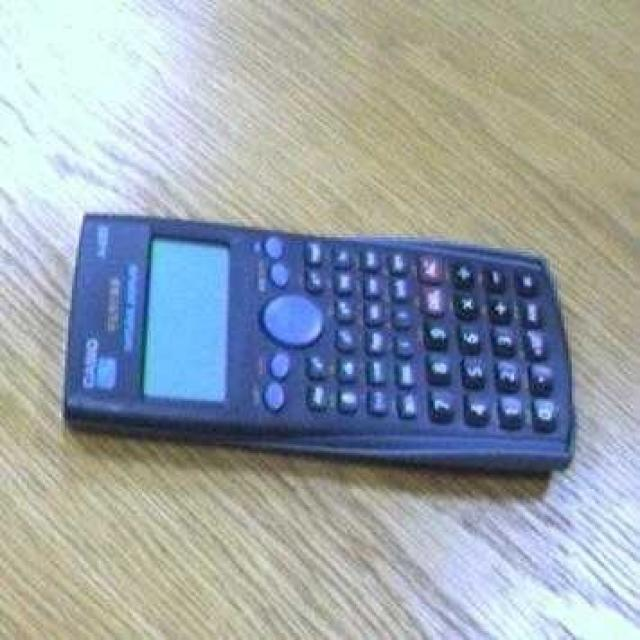Calculator: (61, 210, 575, 475)
